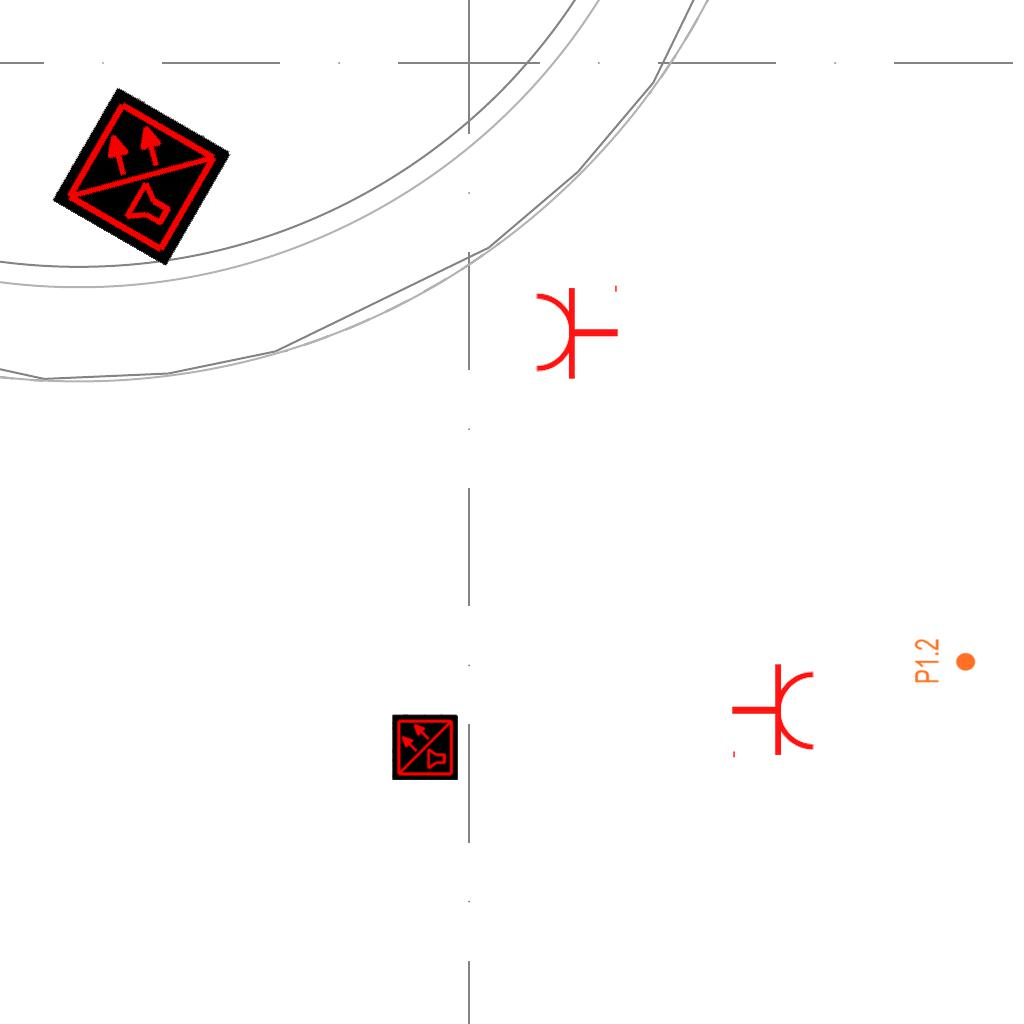Downlight_LED_Einbauleuchten_Flur: (913, 638, 977, 684)
OKW_Multisensormelder_(Kombination_optischer_Rauch-Kahlenmonoxid_Waerme-Melder): (51, 85, 233, 267), (392, 714, 458, 780)
Schukosteckdose_einfach: (730, 662, 817, 762), (533, 281, 620, 381)
